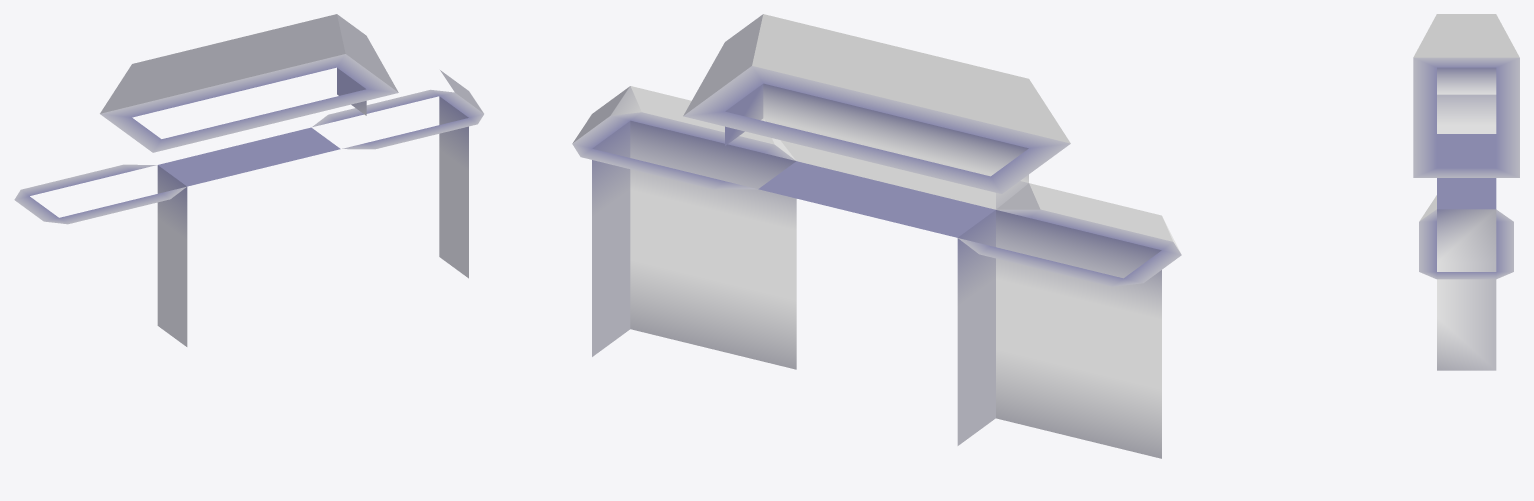
The picture shows the model from 3 angles, left to right: view 1: azimuth 30°, elevation 25°; view 2: azimuth 150°, elevation 25°; view 3: azimuth 270°, elevation 25°; orthographic projection. The views are drawn at different scales.
Visible parts, largest first — view 1: object0; view 2: object0; view 3: object0.
Boxes of the visible parts, <box> form: object0: <box>14,14,483,346</box>; object0: <box>572,14,1181,458</box>; object0: <box>1413,14,1519,370</box>.
Bounding box in the file's own units: 8806 × 6144 × 4020.
